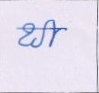i_matra: (45, 19, 57, 47)
